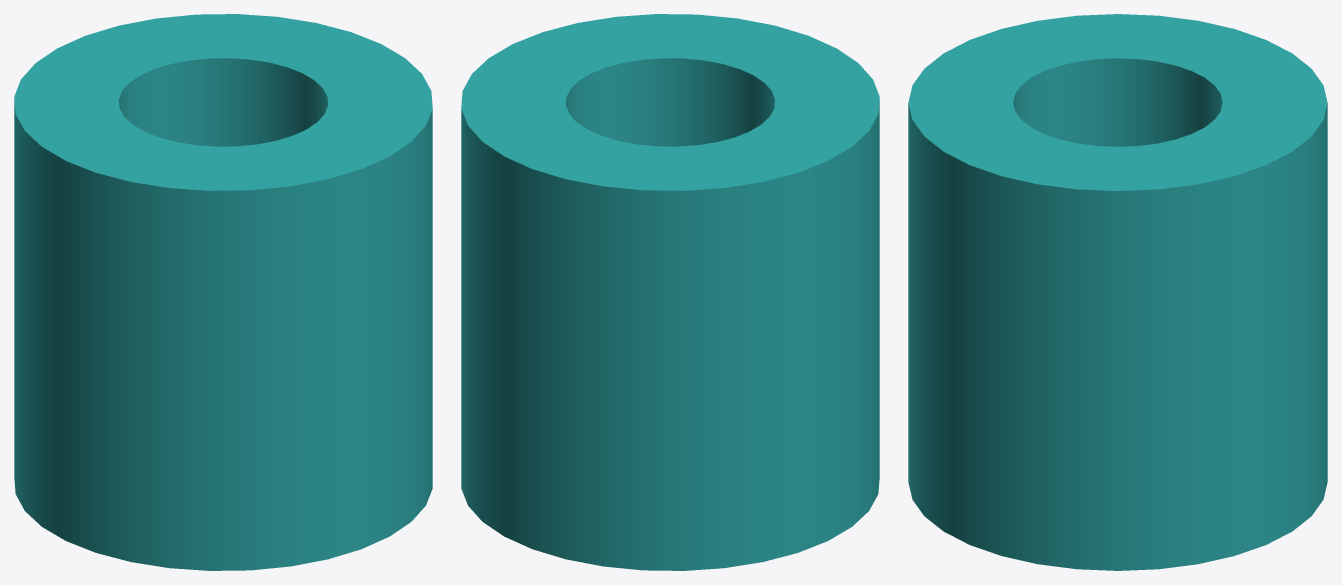
The model's file is sky_torus.dae.
3 views of the same model, side by side, from view 1: azimuth 30°, elevation 25°; view 2: azimuth 150°, elevation 25°; view 3: azimuth 270°, elevation 25° (orthographic).
Visible parts, largest first — view 1: チューブ; view 2: チューブ; view 3: チューブ.
Part boxes in pixels (bbox=[...]): チューブ: bbox=[14, 14, 432, 570]; チューブ: bbox=[461, 14, 879, 570]; チューブ: bbox=[908, 14, 1327, 570].
Size of the model in its own units: 1 by 1 by 1.
